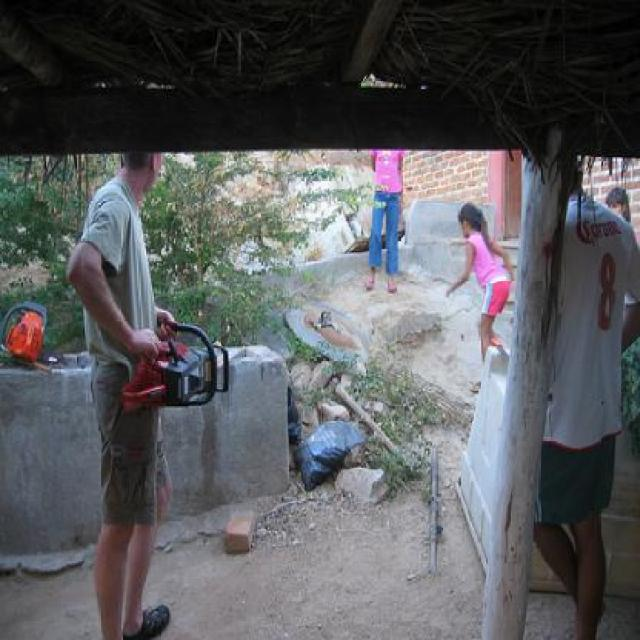Chainsaw: (120, 315, 232, 414)
